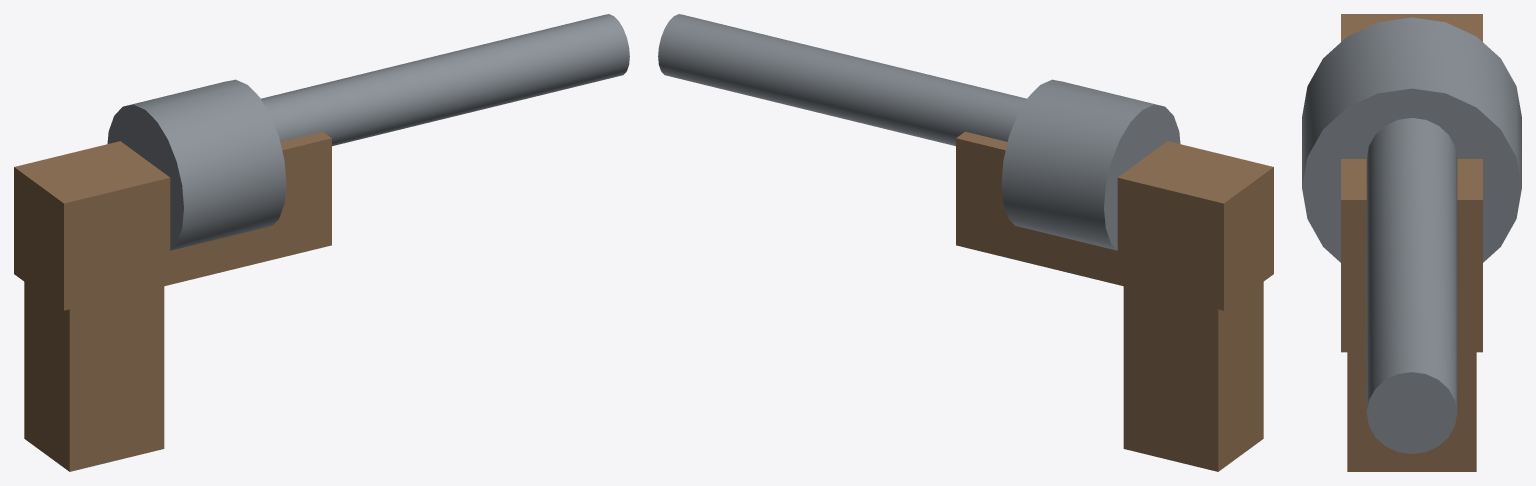
The model's file is western_revolver.glb.
The picture shows the model from 3 angles, left to right: view 1: azimuth 30°, elevation 25°; view 2: azimuth 150°, elevation 25°; view 3: azimuth 270°, elevation 25°; orthographic projection. The views are drawn at different scales.
Parts seen in each view (by area): view 1: world; view 2: world; view 3: world.
Part boxes in pixels (x1=…): world: x1=14, y1=14, x2=629, y2=471; world: x1=658, y1=14, x2=1273, y2=471; world: x1=1302, y1=14, x2=1521, y2=471.
Size of the model in its own units: 0.73 by 0.39 by 0.17.
